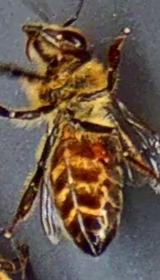varroa_mite: (80, 132, 121, 171)
